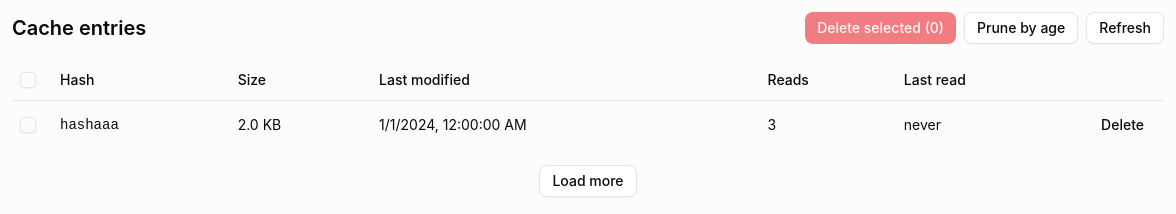
Test: CachePage › loads the next page and appends entries when Load more is clicked
The width and height of the screenshot is (1176, 214).
Expected: the text "hashaaa" is shown, x1=52 y1=100 x2=230 y2=148
Expected: the text "hashbbb" is not shown
Click the button "Load more".
click(588, 180)  # box x1=539 y1=164 x2=636 y2=196
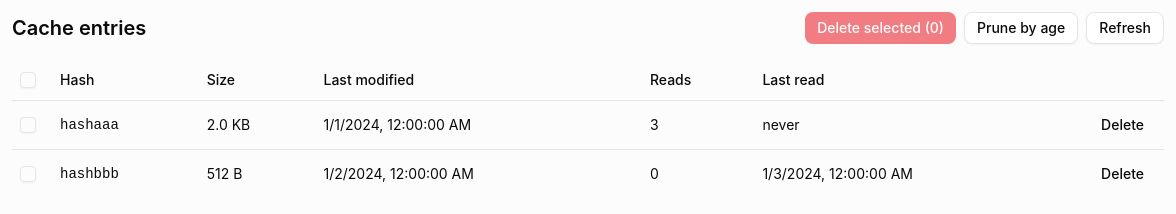
Expected: the text "hashaaa" is shown, x1=52 y1=100 x2=199 y2=149
Result: the text "hashbbb" is shown at x1=52 y1=149 x2=199 y2=198
